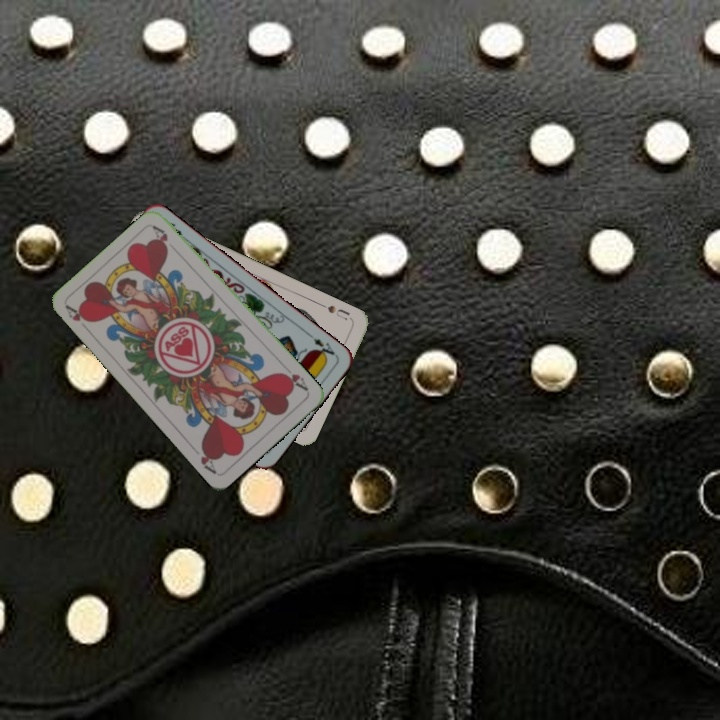EA: (304, 329, 339, 362)
HA: (62, 302, 95, 335), (276, 368, 311, 394)
SU: (316, 300, 352, 323)
